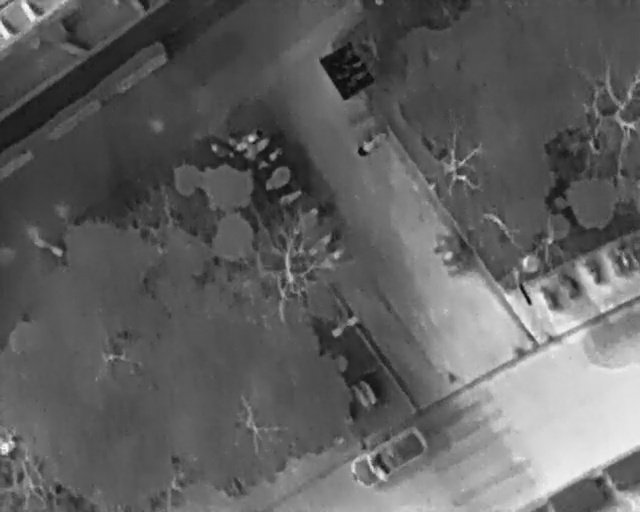Bicycle: (354, 128, 389, 158), (426, 227, 461, 257), (434, 239, 469, 269), (442, 251, 477, 281), (551, 265, 580, 301), (537, 279, 563, 314), (259, 165, 292, 192), (274, 185, 307, 210), (578, 254, 603, 286), (605, 246, 630, 278), (613, 240, 638, 272), (243, 135, 271, 163), (258, 148, 283, 173)
Car: (345, 419, 438, 495)
